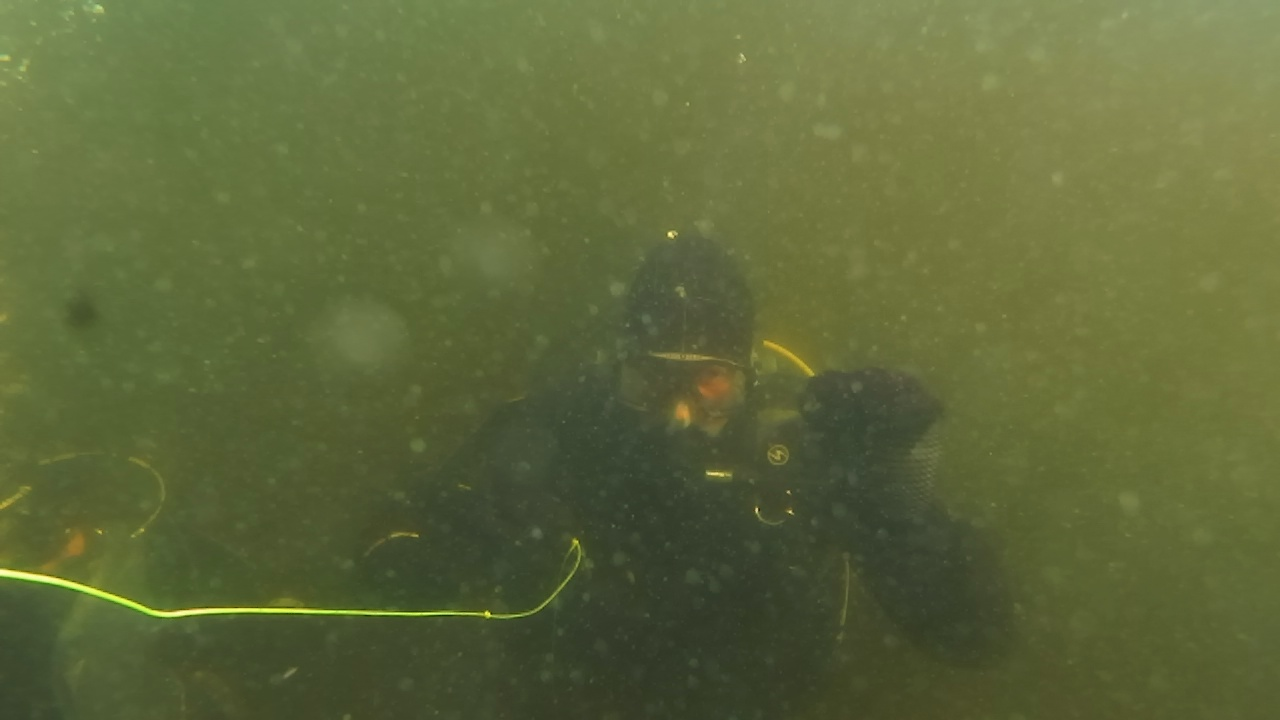Diver: (348, 212, 1024, 710), (2, 408, 226, 718)
Hand: (790, 344, 958, 482), (352, 482, 466, 614)
Head: (596, 224, 772, 492)
